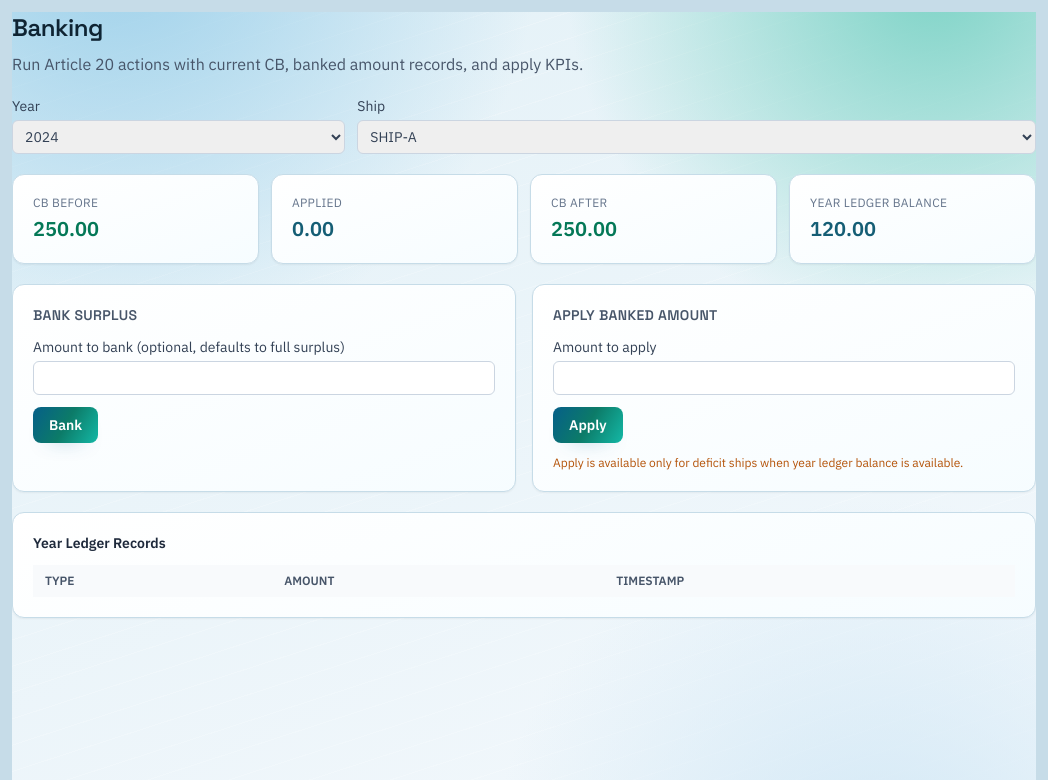
Test: BankingPage › shows guidance message when banking is attempted for non-surplus ship
Select "SHIP-B" in the dropdown labelled "Ship": point(697, 137) [357,120,1036,154]
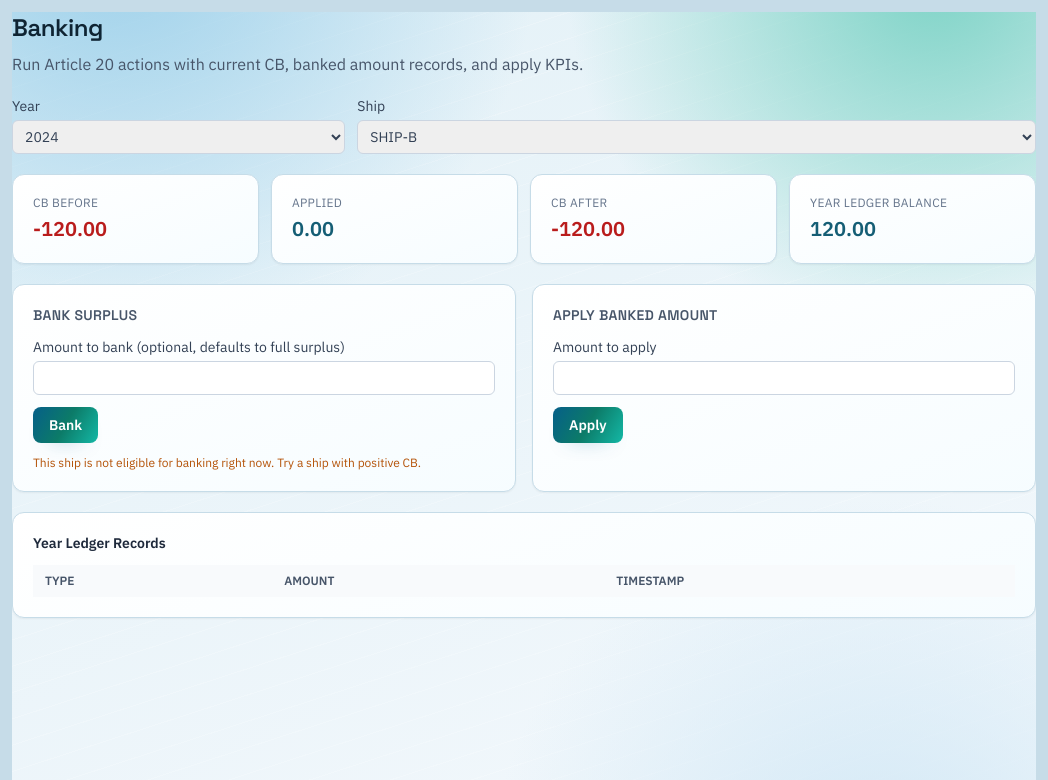
Click the button "Bank": point(66, 425) [33,407,98,443]
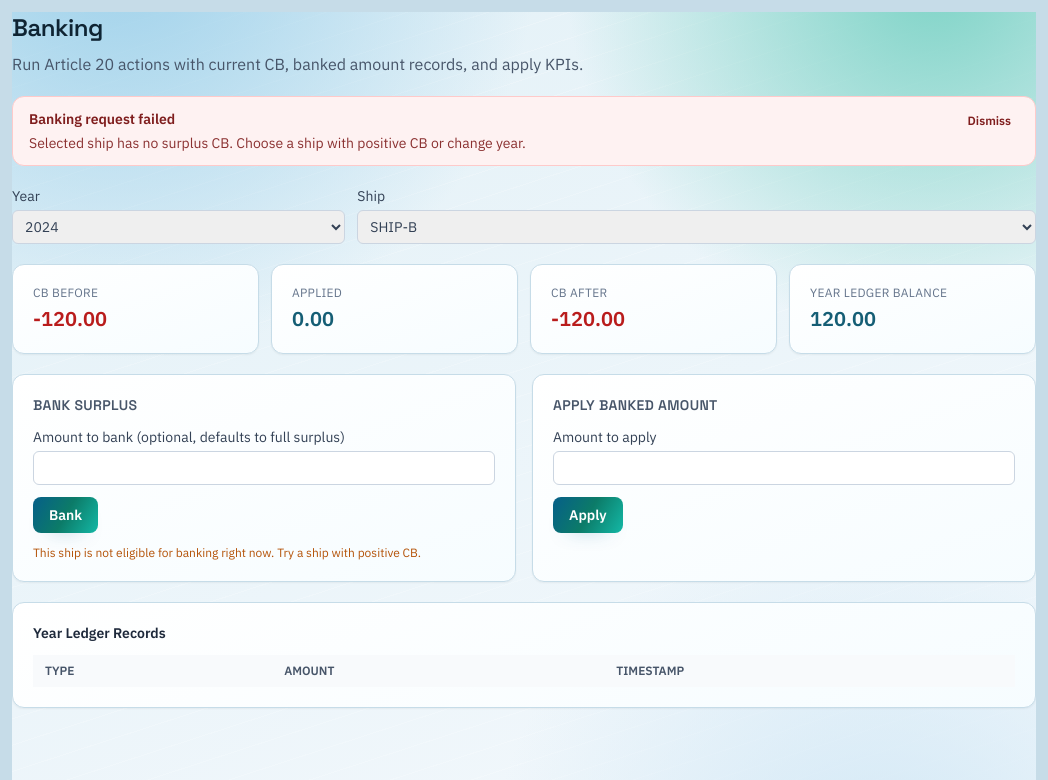
Check: the text "Selected ship has no surplus CB. Choose a ship with positive CB or change year." is shown, box [29,133,526,153]
